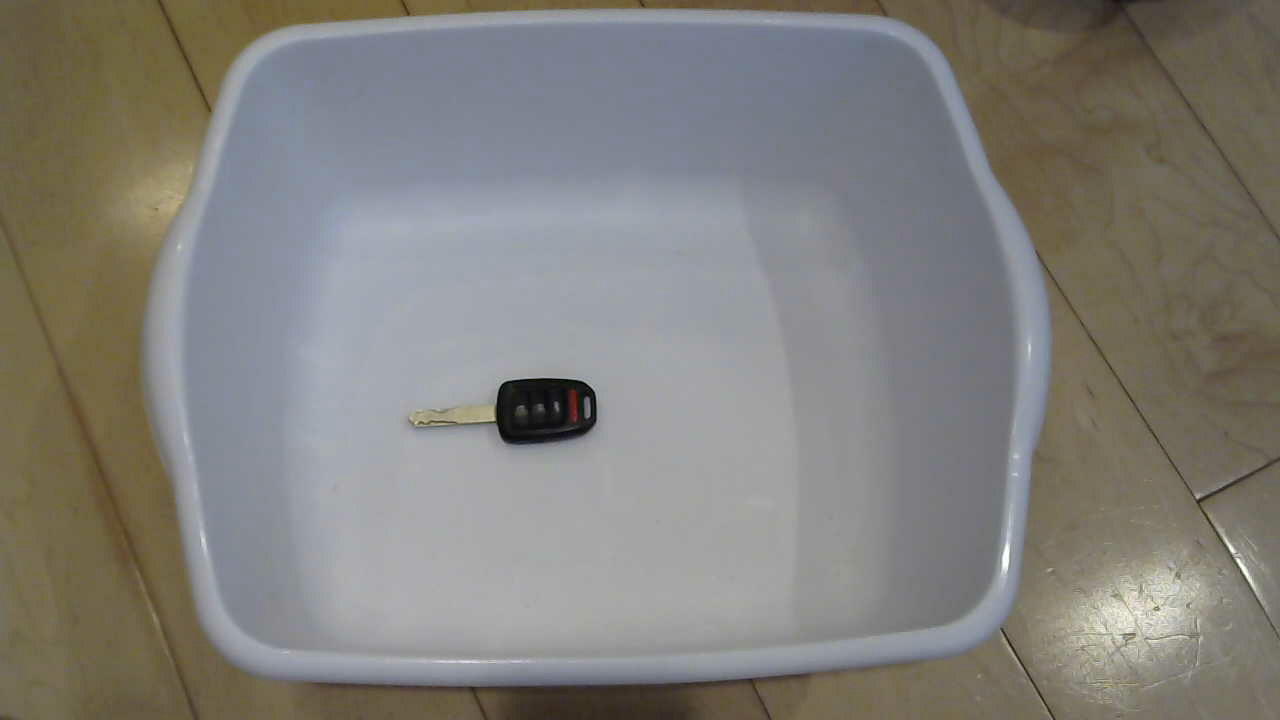key: (401, 374, 607, 463)
